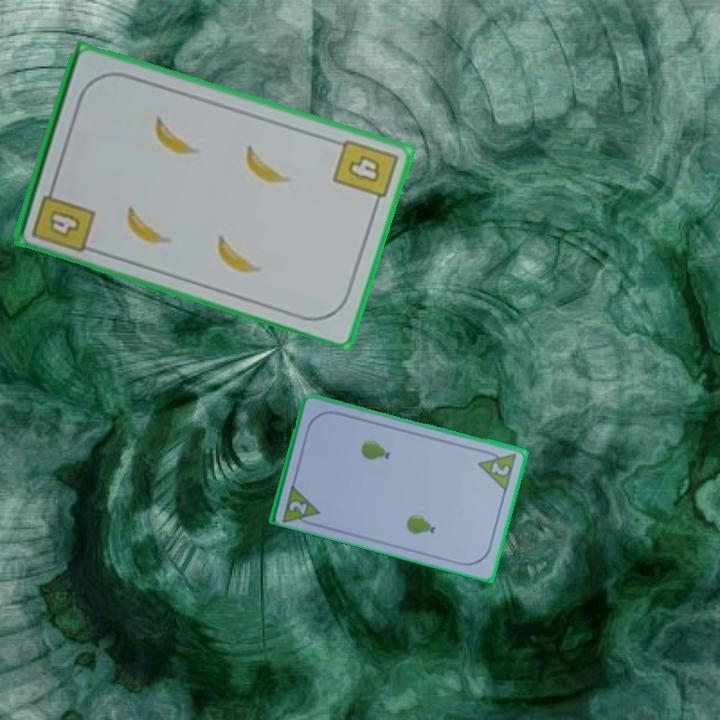2p: (487, 458, 512, 478), (285, 497, 310, 517)
4b: (329, 135, 401, 211), (28, 179, 98, 256)
